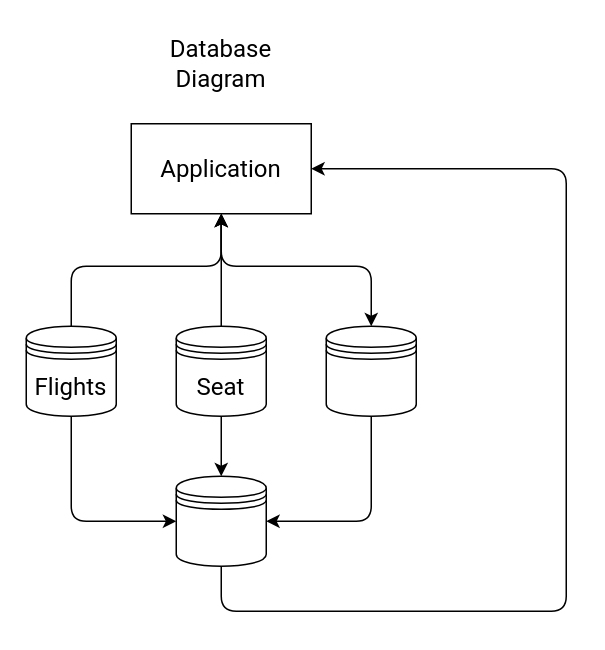
The diagram is 605 pixels wide and 650 high, and some of its shapes have lost their labels. The centre of each missing label's shape, as x and y in pixels:
"Ticket" goes at (220,520).
"Users" goes at (370,370).
